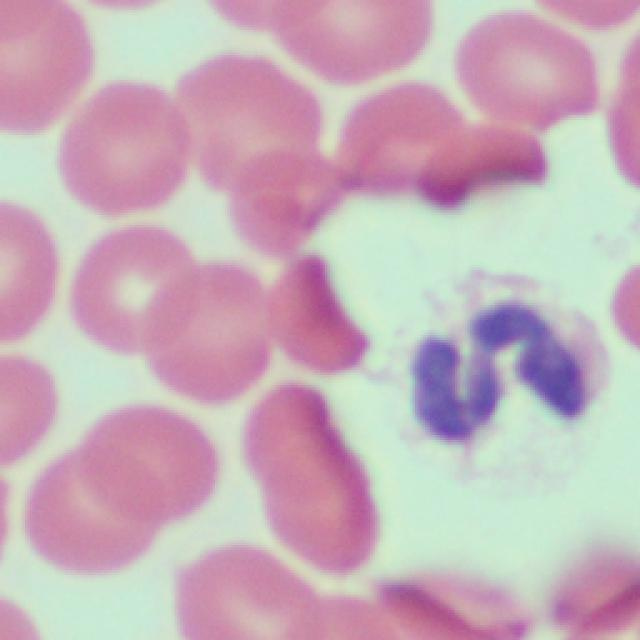RBC: (378, 261, 612, 479), (173, 47, 330, 249), (451, 3, 604, 202), (237, 374, 370, 580), (51, 79, 194, 226), (339, 69, 489, 204), (67, 217, 195, 368), (140, 266, 264, 414), (245, 250, 375, 390), (71, 395, 210, 524), (38, 450, 180, 572), (171, 534, 311, 638), (269, 0, 436, 84), (377, 563, 553, 640), (524, 524, 640, 640), (0, 2, 87, 150), (0, 188, 63, 348), (0, 582, 45, 640)
